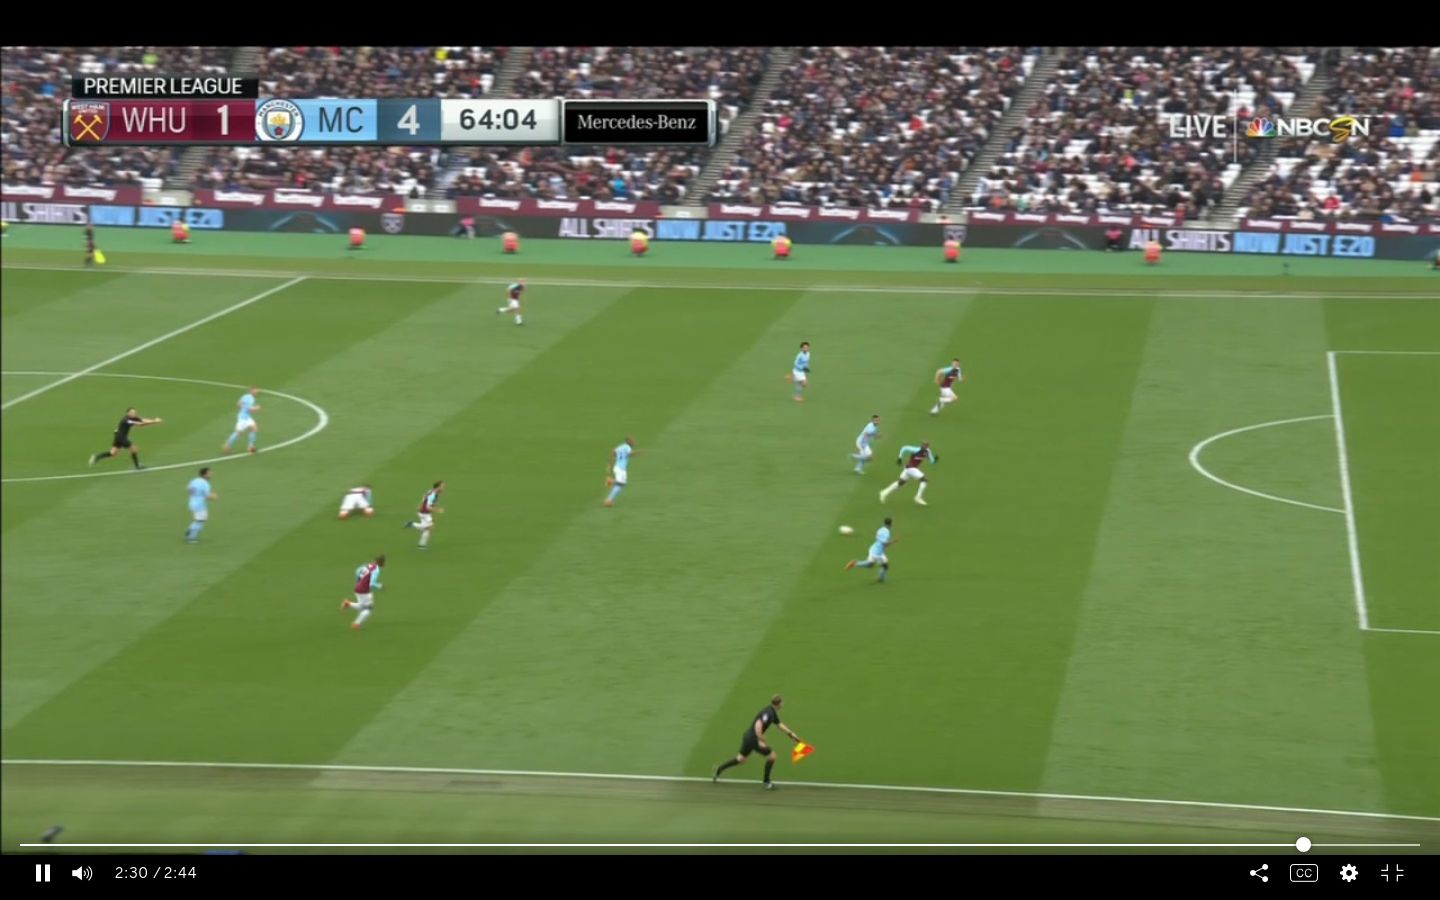referee: (708, 696, 819, 792), (85, 406, 165, 482)
soccer player: (878, 439, 942, 516), (330, 554, 392, 631), (850, 517, 904, 591), (221, 379, 267, 460), (178, 466, 222, 546), (404, 477, 450, 554), (601, 436, 644, 511), (841, 412, 887, 476), (925, 357, 972, 417), (498, 269, 535, 336), (781, 339, 816, 408), (332, 483, 378, 522)
soccerball: (835, 522, 856, 540)
